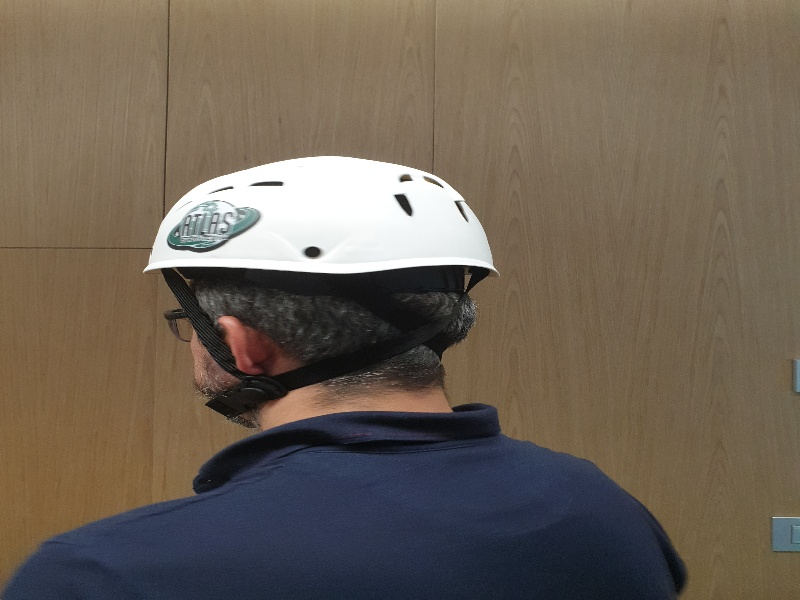Baret: (146, 154, 491, 276)
